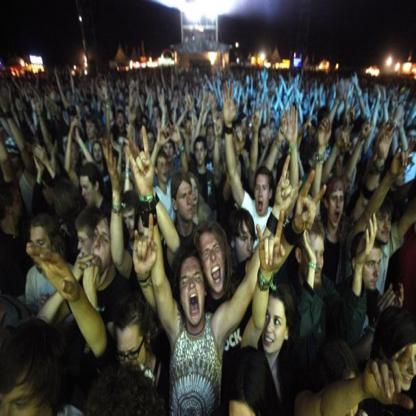face: (180, 258, 205, 326), (2, 383, 47, 416), (201, 233, 224, 293), (118, 330, 146, 375), (261, 302, 286, 352), (303, 235, 325, 284), (93, 219, 113, 266), (396, 344, 416, 389), (32, 227, 52, 271), (363, 249, 382, 291), (237, 221, 255, 265), (256, 175, 270, 216), (178, 182, 193, 220), (330, 193, 345, 228), (377, 211, 392, 244), (78, 231, 92, 262), (81, 177, 94, 209), (124, 211, 136, 240), (14, 190, 25, 217), (158, 157, 169, 181), (43, 183, 55, 205), (190, 179, 198, 205), (354, 138, 363, 161), (196, 143, 205, 166), (164, 143, 174, 162), (70, 143, 79, 164), (310, 123, 318, 146), (207, 128, 215, 150), (10, 155, 20, 172), (221, 140, 229, 160), (337, 156, 344, 178), (94, 145, 103, 162), (147, 133, 155, 152), (87, 121, 95, 138), (268, 82, 276, 96), (270, 122, 276, 139), (181, 78, 188, 92), (261, 130, 267, 146), (119, 113, 125, 128), (154, 107, 160, 121), (186, 121, 192, 134), (243, 117, 248, 131), (208, 116, 213, 129), (271, 110, 275, 121)
